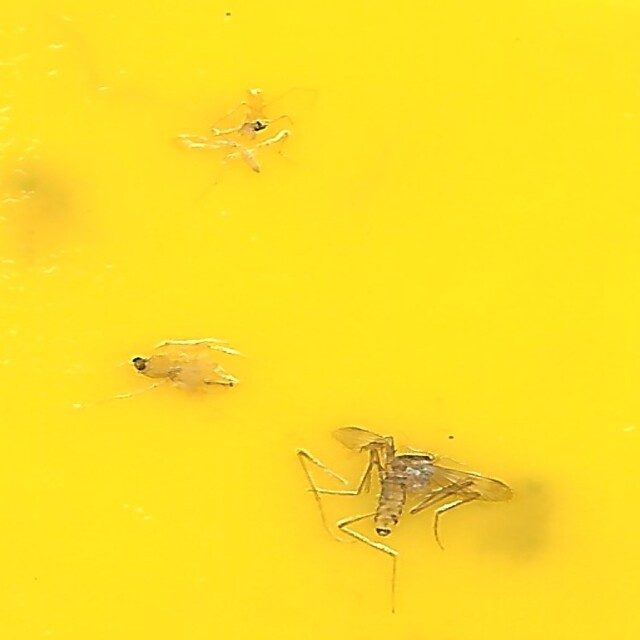Nematocera: (324, 427, 515, 549), (173, 91, 296, 182), (125, 334, 248, 399)
